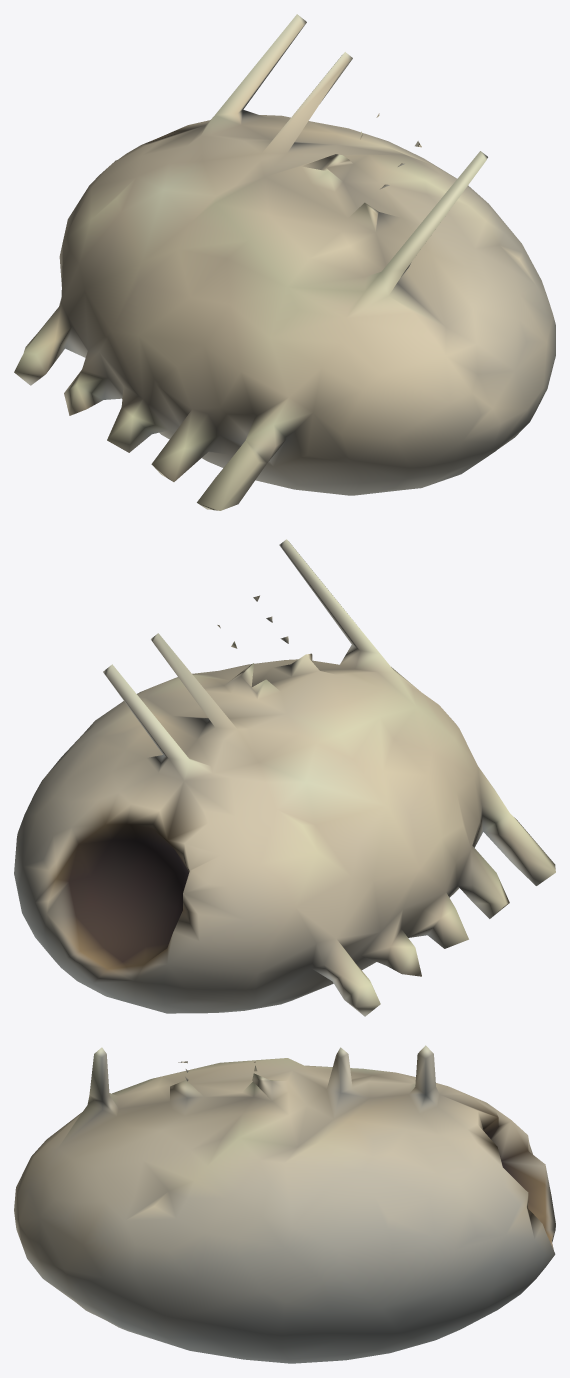
The model's file is env_p_bones.glb.
3 views of the same model, one above another, from view 1: azimuth 30°, elevation 25°; view 2: azimuth 150°, elevation 25°; view 3: azimuth 270°, elevation 25° (orthographic). The views are drawn at different scales.
Visible parts, largest first — view 1: geometry_0; view 2: geometry_0; view 3: geometry_0.
Part boxes in pixels (x1,y1,x2,y2): geometry_0: (14, 14, 555, 510); geometry_0: (14, 539, 555, 1016); geometry_0: (14, 1045, 555, 1363).
Size of the model in its own units: 0.6123 by 0.5215 by 0.7953.
